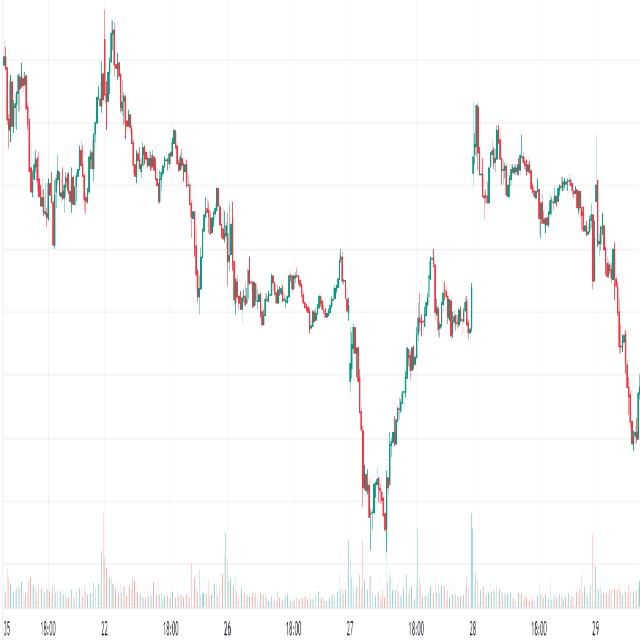Descending-Triangle: (469, 86, 558, 206), (415, 224, 493, 336)
Double-Bottom: (294, 229, 344, 350), (358, 445, 393, 541)
Head-Shoulders: (84, 12, 145, 195), (487, 116, 509, 197)
Inverse-Head-Shoulders: (171, 90, 223, 321)
